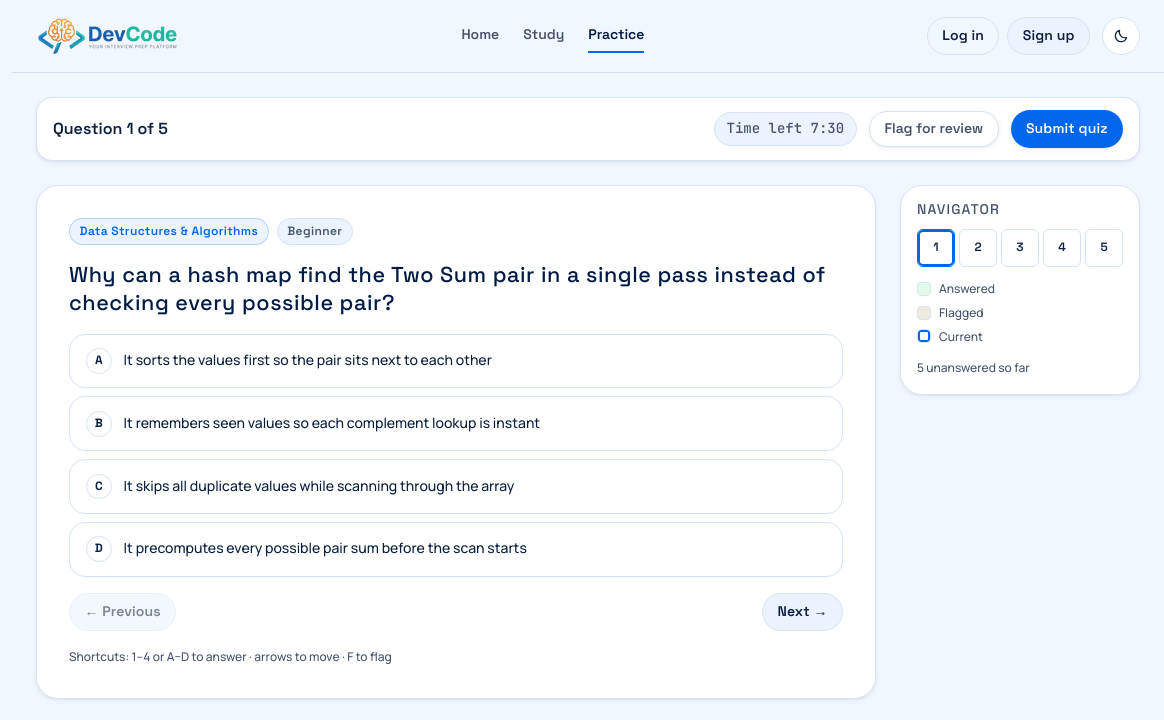
Test: practice navigation guard lifecycle › does not guard navigation from the results screen
expect the text "Question 1 of 5" is shown: met, box [53,116,168,142]
Click the button "Submit quiz": x=1067, y=129 [1010,110,1123,148]
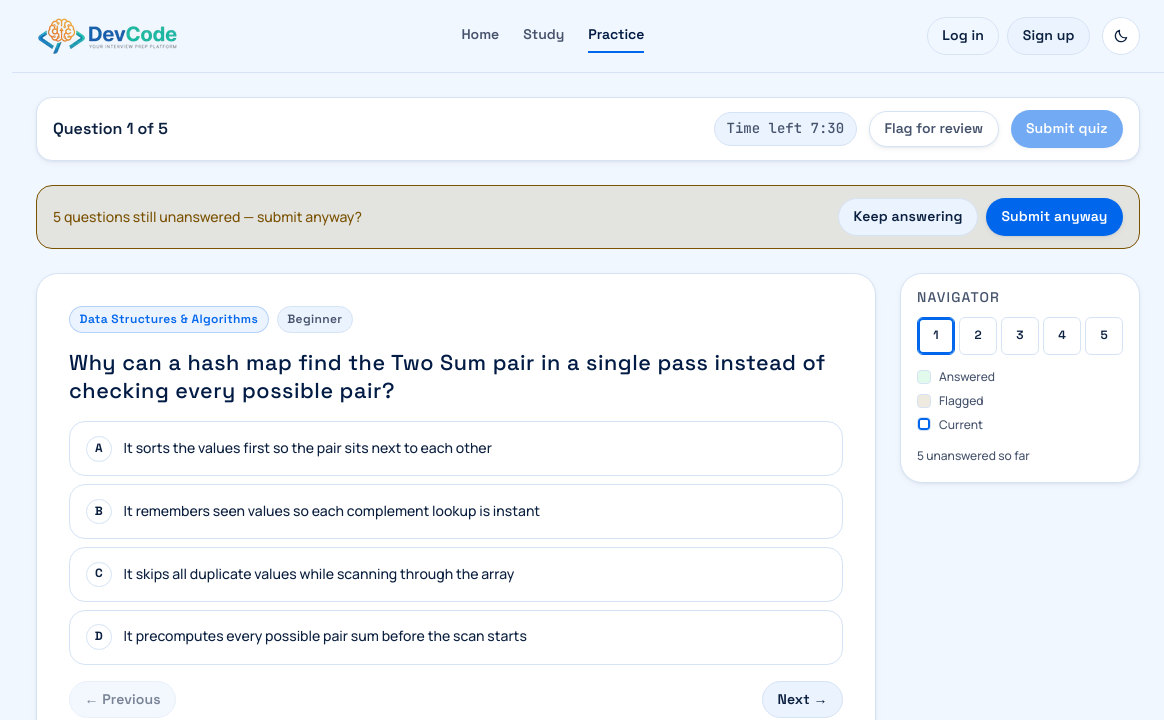
Click the button "Submit anyway": x=1054, y=217 [986,198,1123,236]
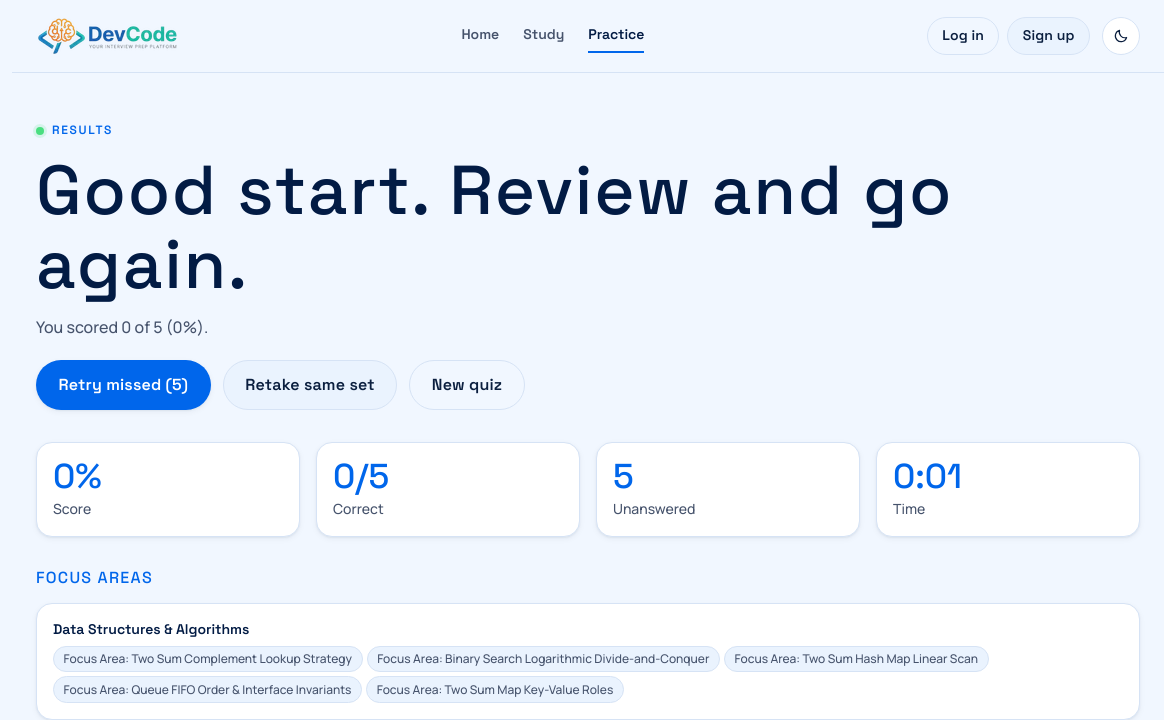
expect the text "You scored 0 of 5 (0%)." is shown: met, box [36,316,208,338]
Click the link "Study": x=544, y=34 [523,26,564,44]
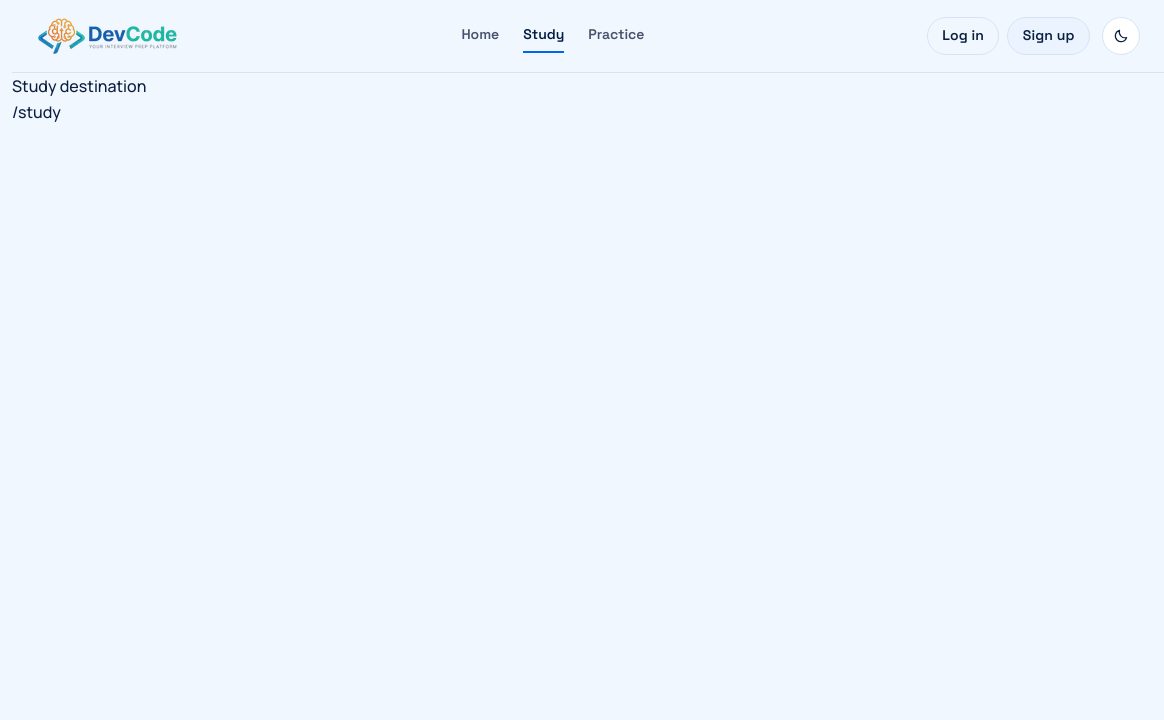
expect the text with test id "location" reads "/study": met, box [12,101,61,123]
